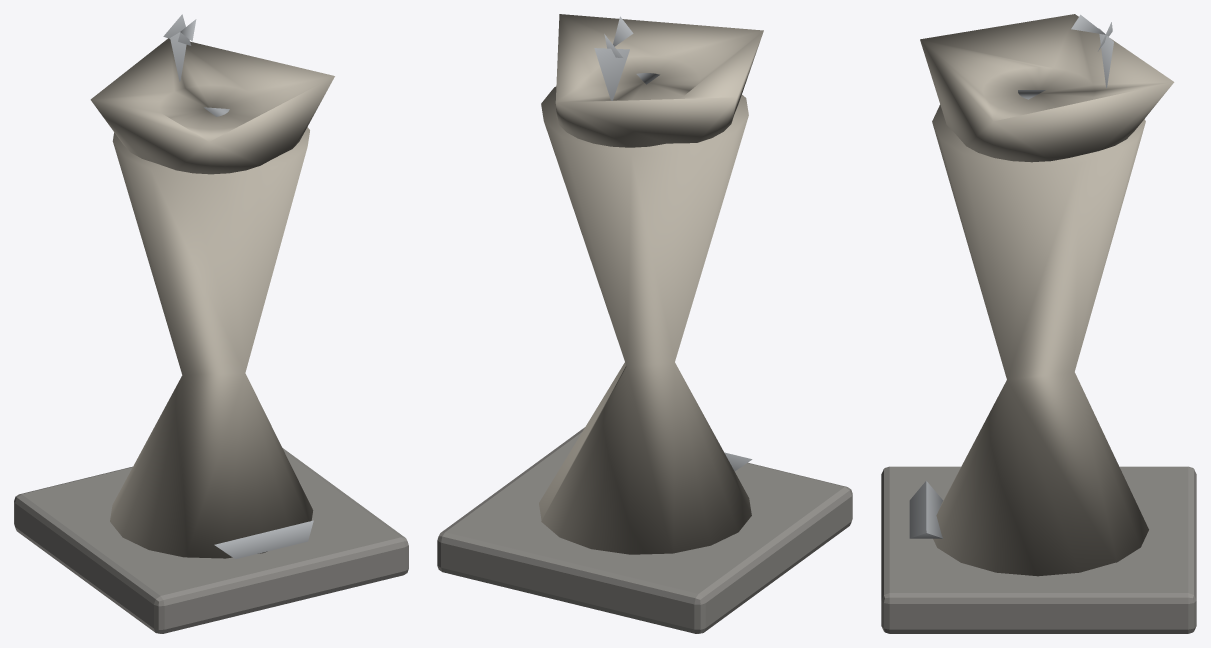
Rendered from drinkingFountain.far.glb.
3 views of the same model, side by side, from view 1: azimuth 30°, elevation 25°; view 2: azimuth 150°, elevation 25°; view 3: azimuth 270°, elevation 25° (orthographic). The views are drawn at different scales.
Parts seen in each view (by area): view 1: drinkingFountain_far; view 2: drinkingFountain_far; view 3: drinkingFountain_far.
Part boxes in pixels (x1=…): drinkingFountain_far: x1=14, y1=14, x2=408, y2=633; drinkingFountain_far: x1=437, y1=14, x2=852, y2=633; drinkingFountain_far: x1=881, y1=14, x2=1196, y2=633.
Bounding box in the file's own units: 0.56 × 1.09 × 0.56.
